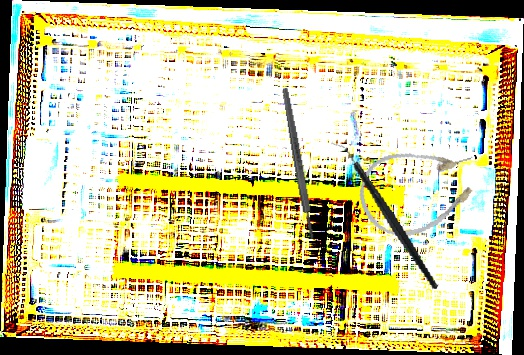Cannula: (351, 135, 488, 246)
Chopper: (329, 125, 440, 305)
Scalpel Handle: (280, 87, 317, 240)
